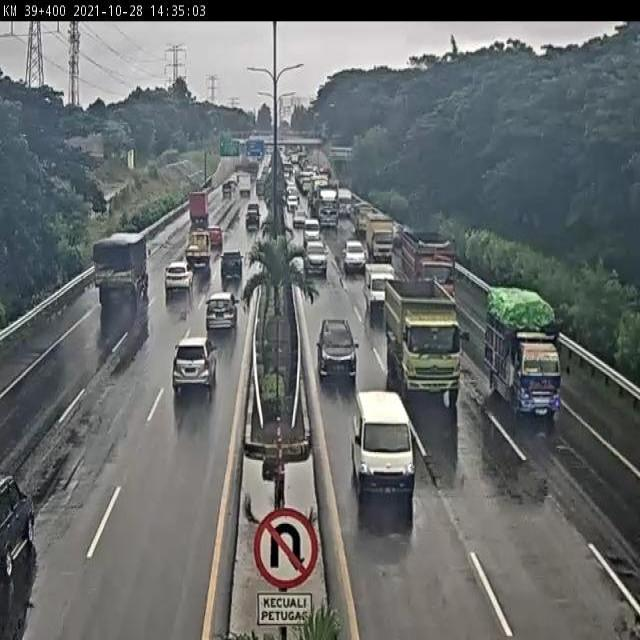big truck: (385, 283, 469, 392), (91, 232, 153, 301), (402, 236, 458, 301)
car: (348, 382, 420, 507), (0, 464, 46, 584), (311, 311, 368, 389), (168, 325, 220, 400), (361, 263, 403, 316), (203, 289, 237, 336), (156, 259, 197, 297), (219, 253, 256, 287), (306, 242, 330, 282), (345, 236, 366, 273), (209, 226, 228, 246)
small truck: (483, 290, 567, 434), (363, 214, 393, 262), (188, 190, 215, 233), (188, 233, 207, 270)
